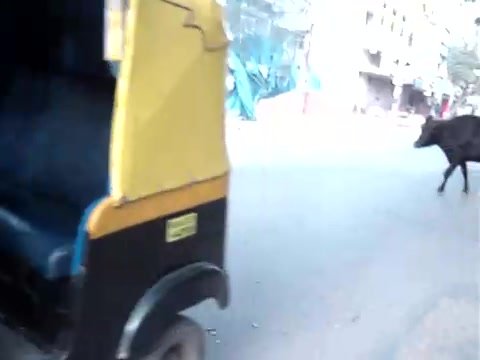cow: (413, 114, 480, 197)
